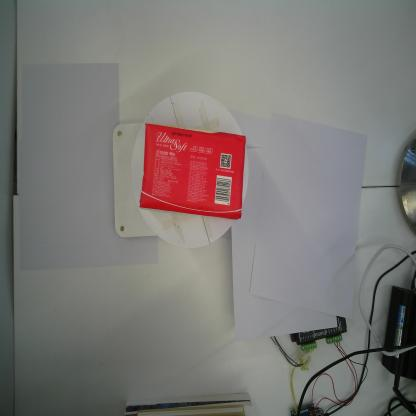Tissue: (138, 121, 247, 222)
